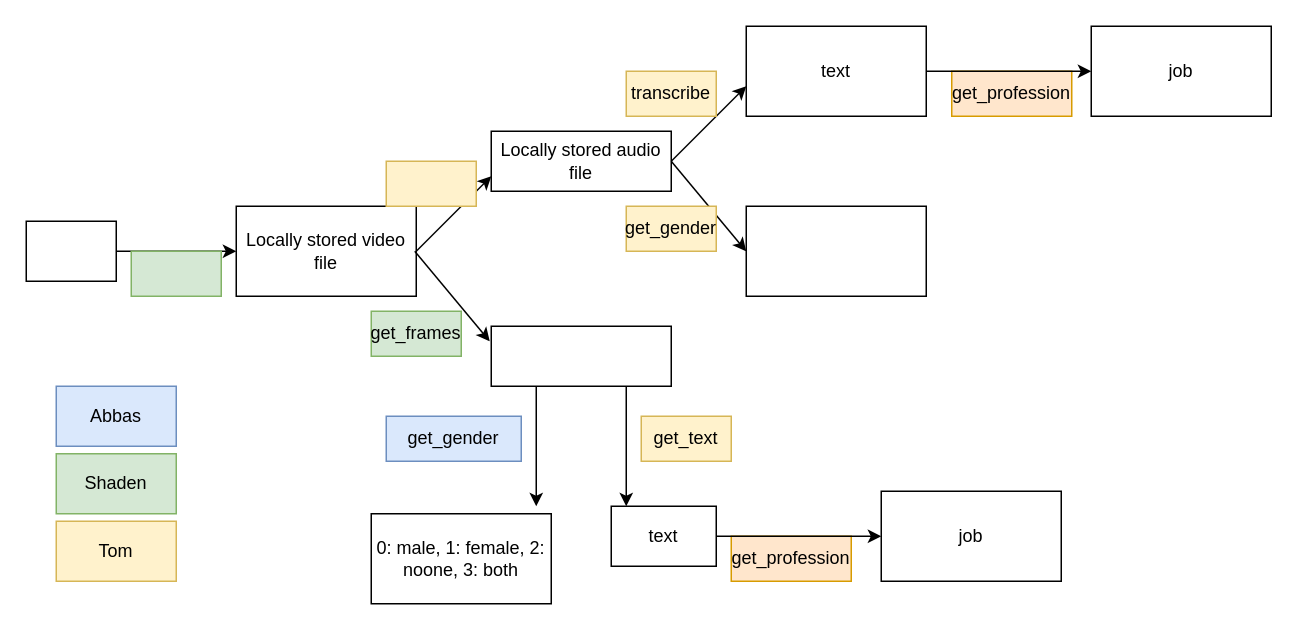
The diagram is 1298 pixels wide and 630 high, and some of its shapes have lost their labels. The shapes that lost their labels are listed below. From the top down, each one's centre as x and y in pixels, then its label:
At point 430,183: "get_audio".
At point 70,250: "URL".
At point 835,250: "0: male, 1: female, 2: no voice, 3: both".
At point 175,273: "download".
At point 580,355: "list(frames)".
